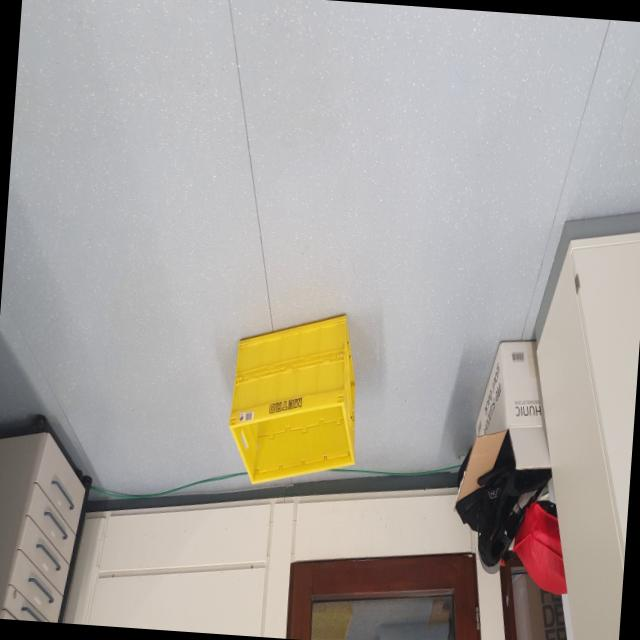box: (224, 304, 372, 497)
